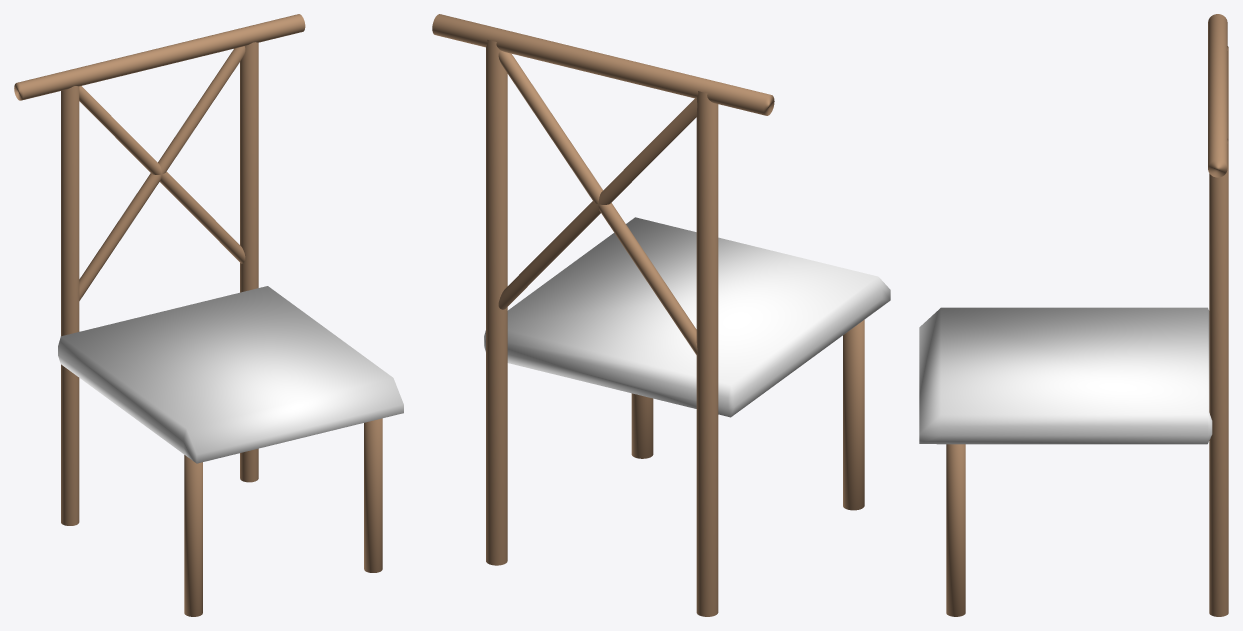
3 renders of one model, left to right at view 1: azimuth 30°, elevation 25°; view 2: azimuth 150°, elevation 25°; view 3: azimuth 270°, elevation 25°, orthographic. The views are drawn at different scales.
Visible parts, largest first — view 1: Cube, Cylinder.004, Cylinder.006, Cylinder.002, Cylinder.007, Cylinder, Cylinder.005, Cylinder.001; view 2: Cube, Cylinder.004, Cylinder.002, Cylinder.006, Cylinder.007, Cylinder.005, Cylinder, Cylinder.001; view 3: Cube, Cylinder.002, Cylinder.001, Cylinder.006.
Part boxes in pixels (x1,y1,x2,y2): Cube: [58, 286, 403, 463]; Cylinder.004: [61, 86, 79, 525]; Cylinder.006: [14, 14, 305, 100]; Cylinder.002: [240, 42, 258, 482]; Cylinder.007: [79, 46, 245, 300]; Cylinder: [184, 455, 202, 616]; Cylinder.005: [79, 86, 245, 263]; Cylinder.001: [364, 418, 382, 572]; Cube: [484, 217, 890, 417]; Cylinder.004: [696, 91, 718, 616]; Cylinder.002: [486, 40, 507, 565]; Cylinder.006: [432, 14, 774, 115]; Cylinder.007: [498, 50, 697, 355]; Cylinder.005: [498, 98, 697, 309]; Cylinder: [843, 320, 864, 510]; Cylinder.001: [631, 393, 653, 458]; Cube: [919, 307, 1212, 444]; Cylinder.002: [1209, 138, 1228, 616]; Cylinder.001: [946, 444, 965, 616]; Cylinder.006: [1208, 14, 1227, 177].
Bounding box in the file's own units: 0.53 × 0.8118 × 0.4752.
